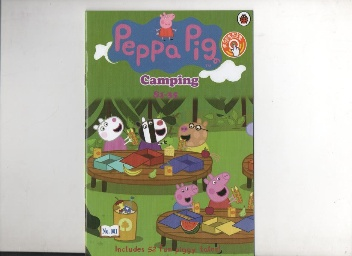Peppa: (202, 171, 236, 210)
